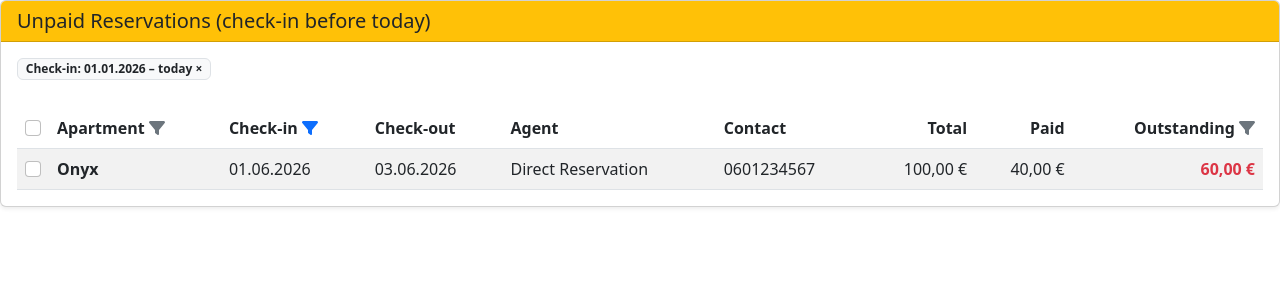
it: UnpaidReservationsReport › Apartment column filter › should NOT show Clear all with only one active chip
The width and height of the screenshot is (1280, 296).
Click the button named "remove check-in filter" at (199, 69), box x1=195 y1=60 x2=202 y2=77
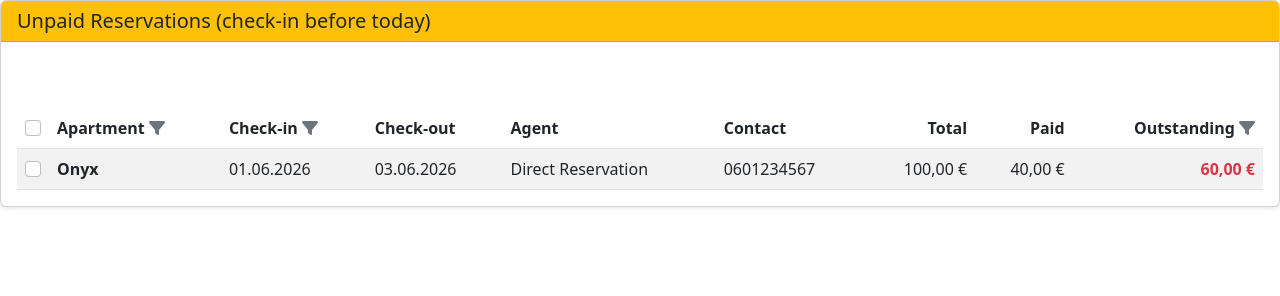
Click the button with aria-label "apartment filter" at (111, 128), box x1=57 y1=117 x2=165 y2=139
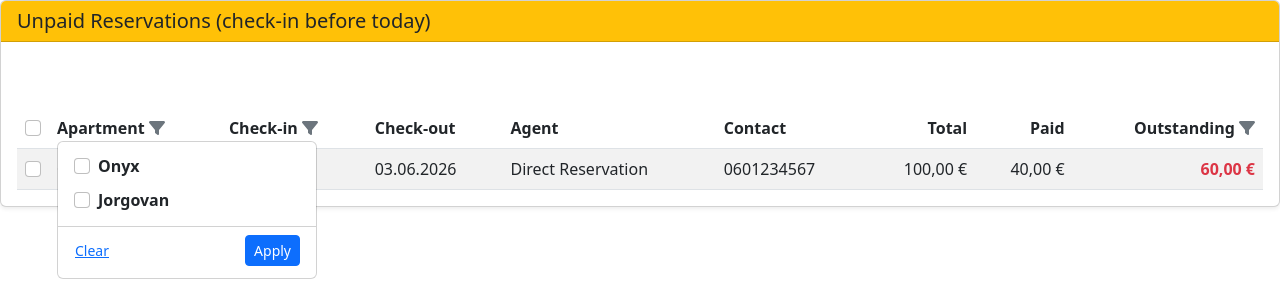
Click the checkbox labelled "Jorgovan" at (82, 200), box x1=74 y1=192 x2=90 y2=208
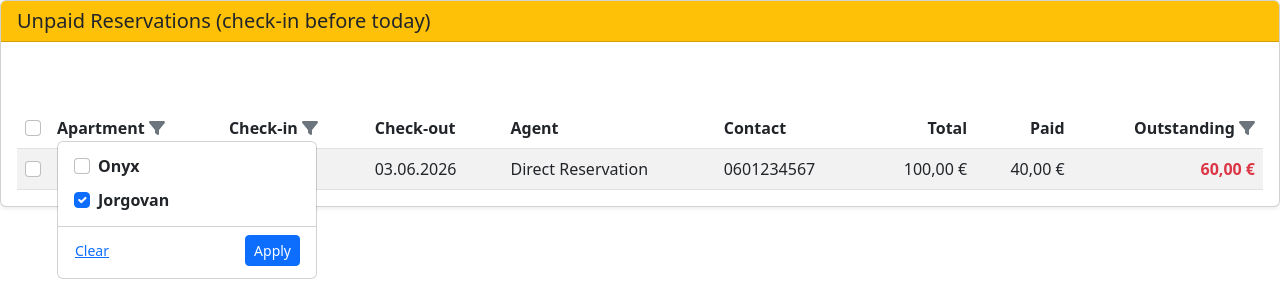
Click the button "Apply" at (273, 250), box x1=245 y1=235 x2=300 y2=266
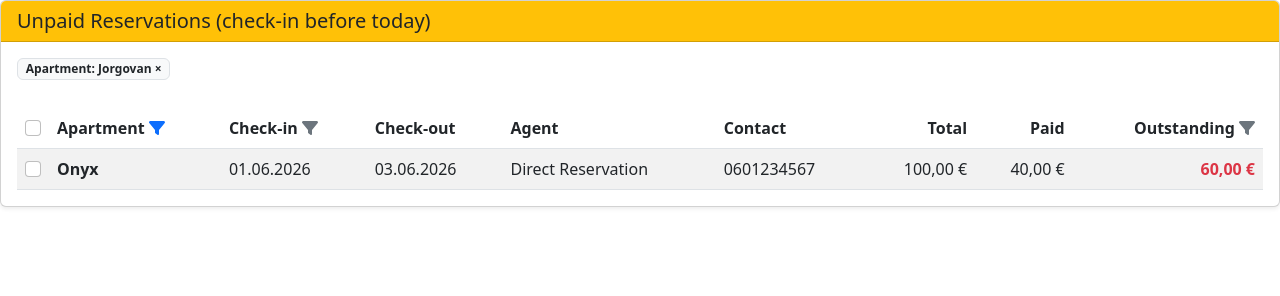
Result: the text "Apartment: Jorgovan ×" is shown at x1=17 y1=58 x2=170 y2=80
